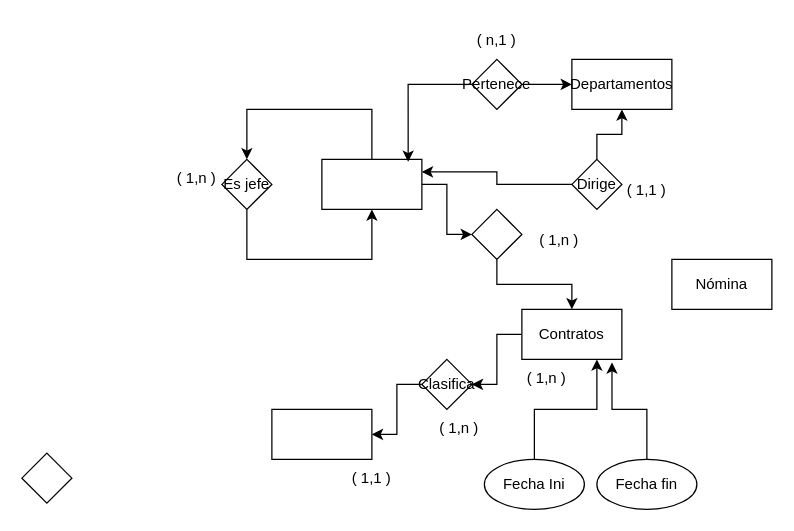
Some shapes in this 794 by 531 pixel diagram are drawn without their labels. The shapes that lost their labels are listed below. From the top down, each one's box as (x1, y1, x2, y2) in pixels, then its label:
(321, 158, 422, 209): Empleados
(471, 208, 522, 259): Tienen
(271, 408, 372, 459): Categoría profesional
(21, 452, 72, 503): Tiene
